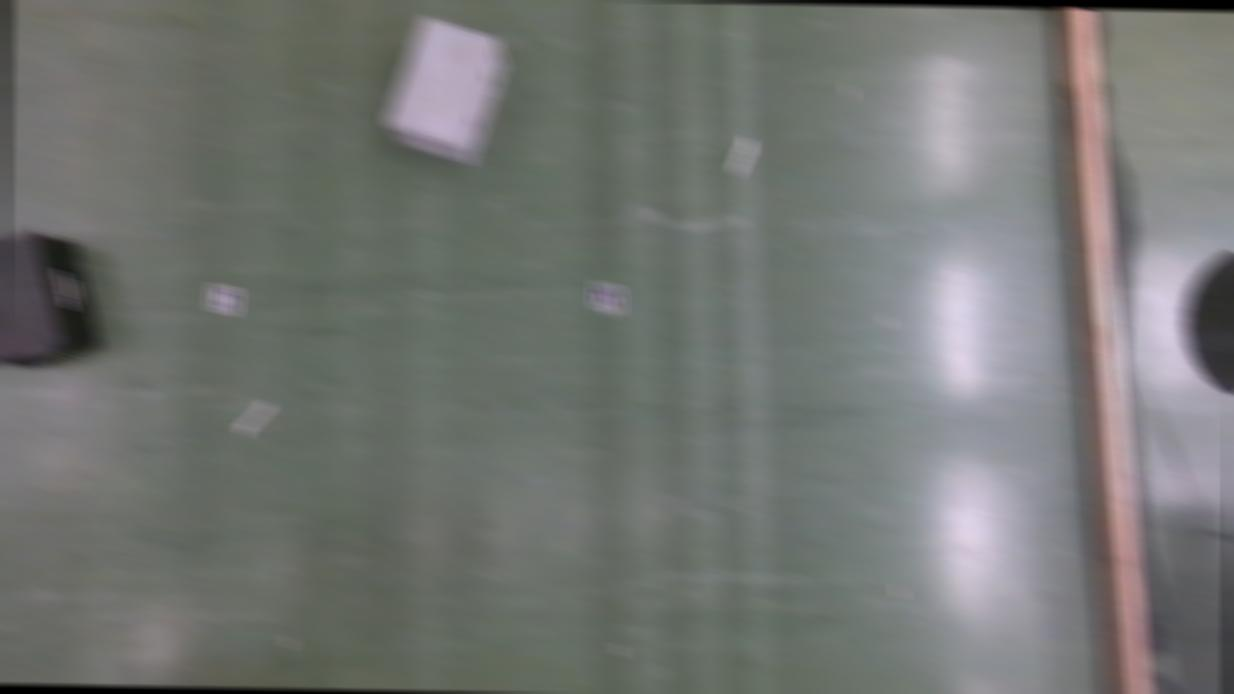probes: (235, 397, 271, 436), (729, 134, 752, 176)
rako: (382, 13, 510, 167), (0, 224, 104, 368)
